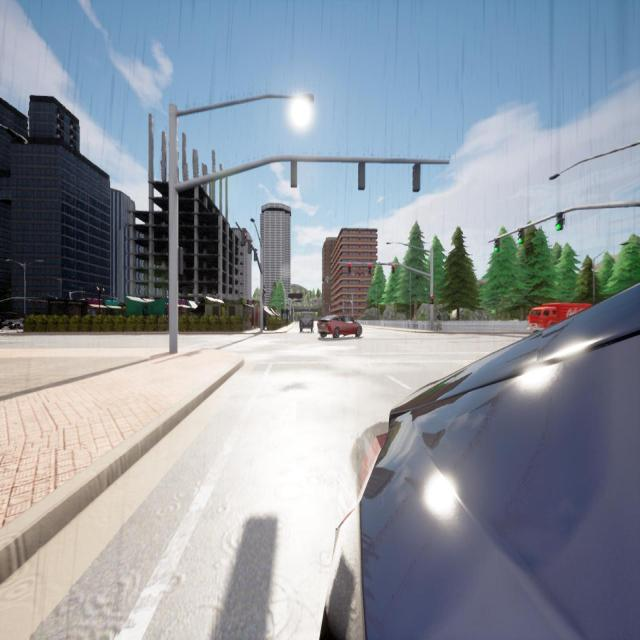Pedestrian: (436, 312, 441, 330)
Vehicle: (322, 284, 640, 638), (528, 303, 591, 333), (318, 316, 362, 337), (300, 313, 313, 332)
traffic_light: (358, 162, 365, 189), (413, 164, 420, 190), (178, 247, 184, 274), (290, 160, 296, 186), (556, 214, 562, 230), (494, 239, 500, 252), (518, 230, 524, 243), (242, 229, 246, 245), (248, 240, 252, 252), (255, 250, 258, 260), (348, 264, 351, 273), (431, 295, 434, 304), (368, 265, 371, 273), (392, 264, 395, 272)
